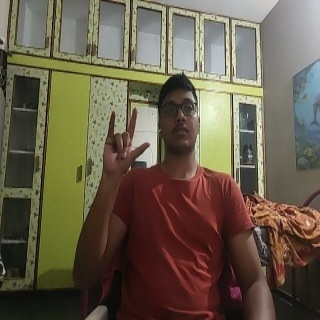Face: (157, 73, 203, 157)
I Love You: (100, 105, 152, 179)
